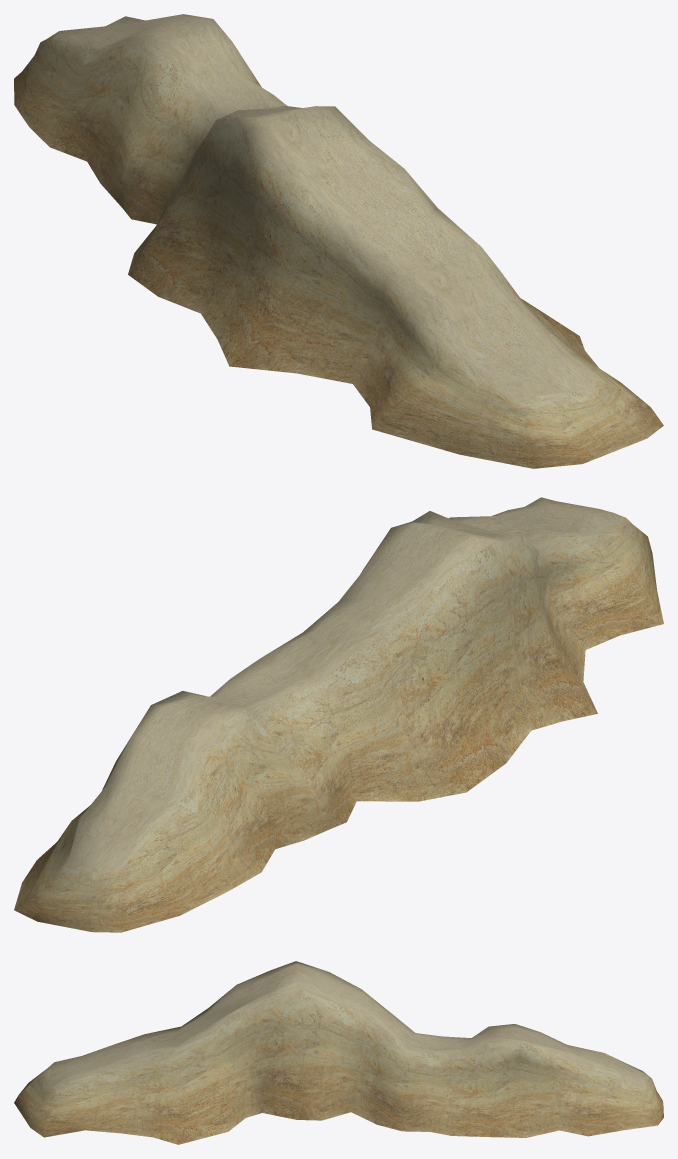
Rendered from rock_beach_spine_a2_l0.fbx.
The picture shows the model from 3 angles, top to bottom: view 1: azimuth 30°, elevation 25°; view 2: azimuth 150°, elevation 25°; view 3: azimuth 270°, elevation 25°; orthographic projection. The views are drawn at different scales.
Parts seen in each view (by area): view 1: mesh_node; view 2: mesh_node; view 3: mesh_node.
Boxes of the visible parts, box(x1,y1,x2,y2) form: mesh_node: box(14, 14, 663, 468); mesh_node: box(14, 497, 663, 932); mesh_node: box(14, 961, 663, 1144).
Size of the model in its own units: 5.49 by 3.49 by 17.27.
